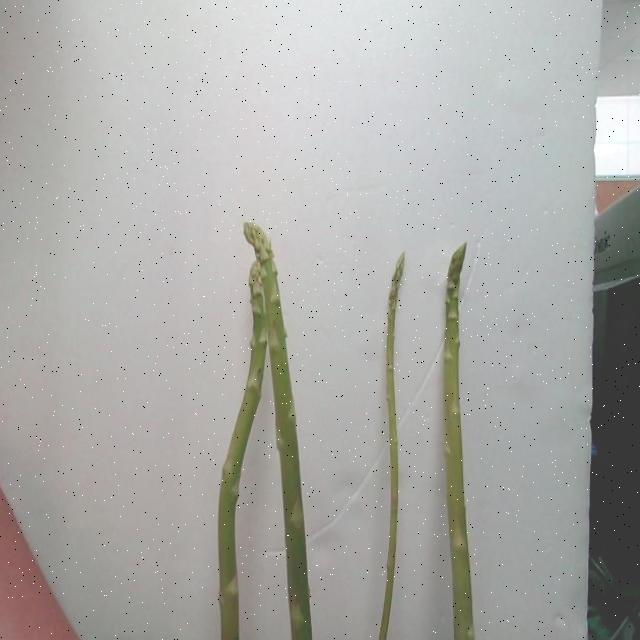aspargus: (442, 248, 478, 640), (378, 254, 408, 640)
